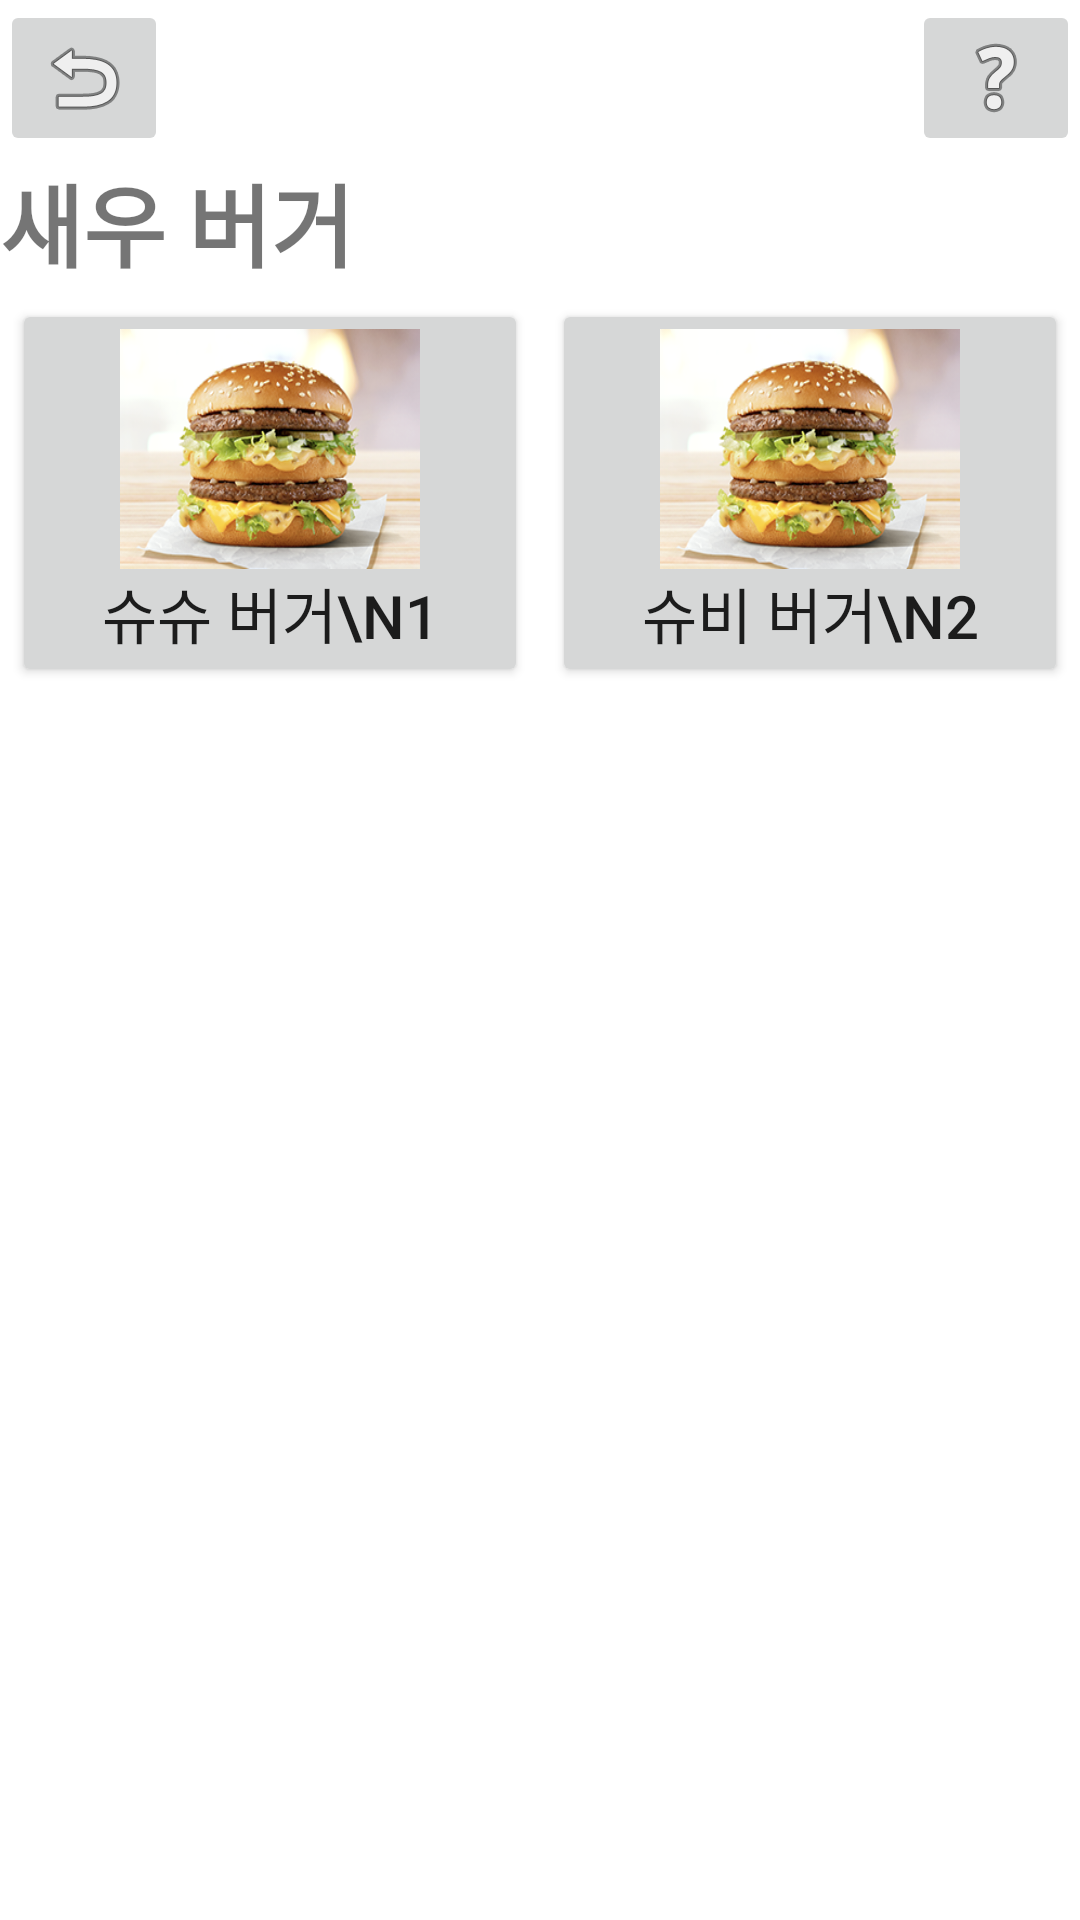

Locate icon controls on the screen. Image size 1080x1920, boxes as [left=x1, top=y1, right=x2, bottom=y2].
help: [left=924, top=18, right=1068, bottom=138]
revert: [left=12, top=18, right=156, bottom=138]
